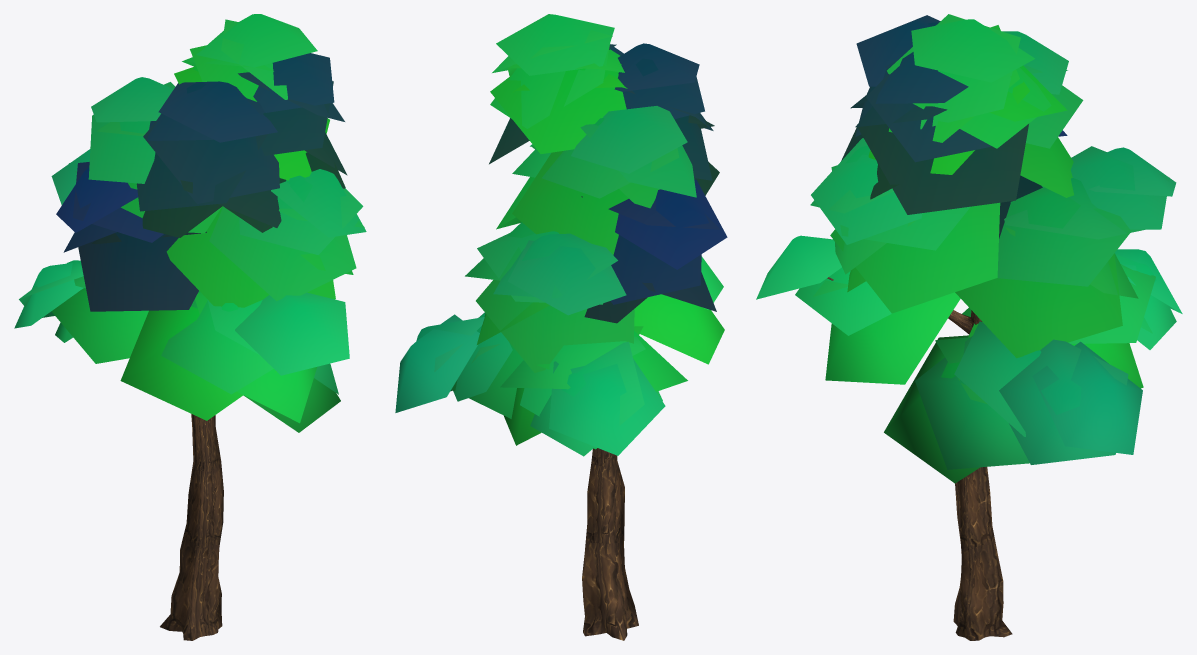
Rendered from FantasyTree14.fbx.
3 views of the same model, side by side, from view 1: azimuth 30°, elevation 25°; view 2: azimuth 150°, elevation 25°; view 3: azimuth 270°, elevation 25° (orthographic). The views are drawn at different scales.
Visible parts, largest first — view 1: fantasyleaf4_alpha_1, tree2_0; view 2: fantasyleaf4_alpha_1, tree2_0; view 3: fantasyleaf4_alpha_1, tree2_0.
Part boxes in pixels (x1,y1,x2,y2): fantasyleaf4_alpha_1: (14, 14, 366, 432); tree2_0: (160, 414, 223, 640); fantasyleaf4_alpha_1: (395, 14, 727, 456); tree2_0: (582, 448, 638, 640); fantasyleaf4_alpha_1: (756, 14, 1182, 483); tree2_0: (827, 277, 1012, 640).
Size of the model in its own units: 333 by 659 by 399.
Materials: 1 (1 with a texture image).
